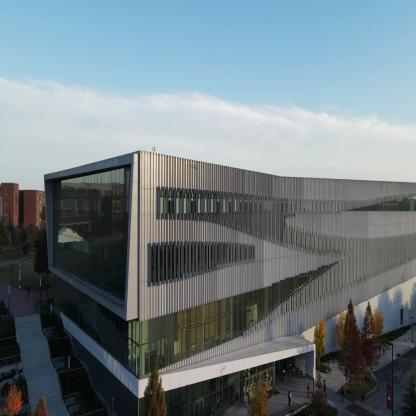Hunt Library: (30, 145, 415, 415)
